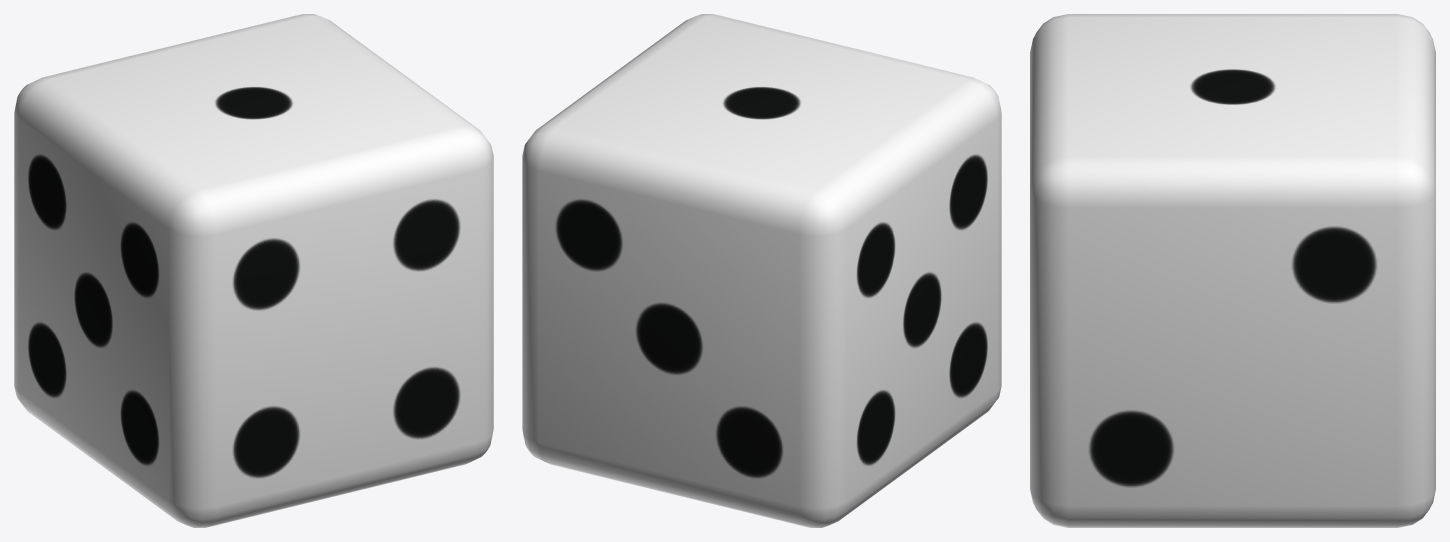
The model's file is Dice.fbx.
The picture shows the model from 3 angles, left to right: view 1: azimuth 30°, elevation 25°; view 2: azimuth 150°, elevation 25°; view 3: azimuth 270°, elevation 25°; orthographic projection. The views are drawn at different scales.
Visible parts, largest first — view 1: Dice; view 2: Dice; view 3: Dice.
Boxes of the visible parts, x1,y1,x2,y2 form: Dice: (14,14,493,527); Dice: (522,14,1001,527); Dice: (1030,14,1435,527).
Size of the model in its own units: 1.06 by 1.06 by 1.06.
Materials: 1 (1 with a texture image).
